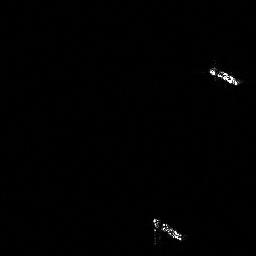ship: (149, 213, 187, 246), (206, 63, 242, 89)
